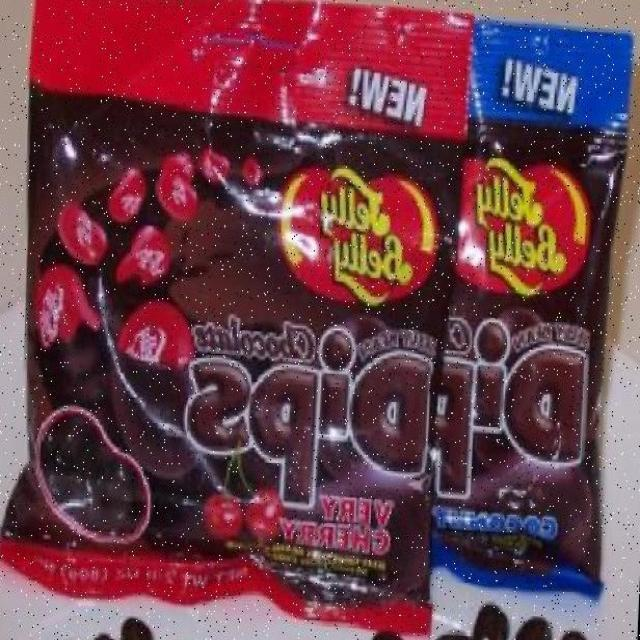Dry Waste: (6, 0, 633, 609)
